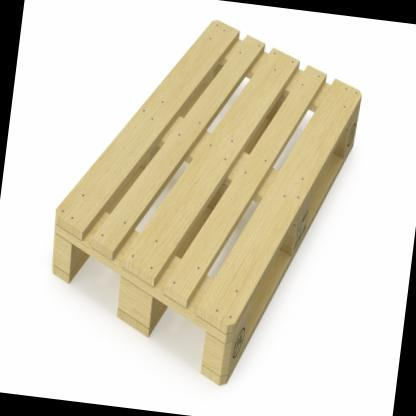BoxFace: (50, 19, 363, 390)
